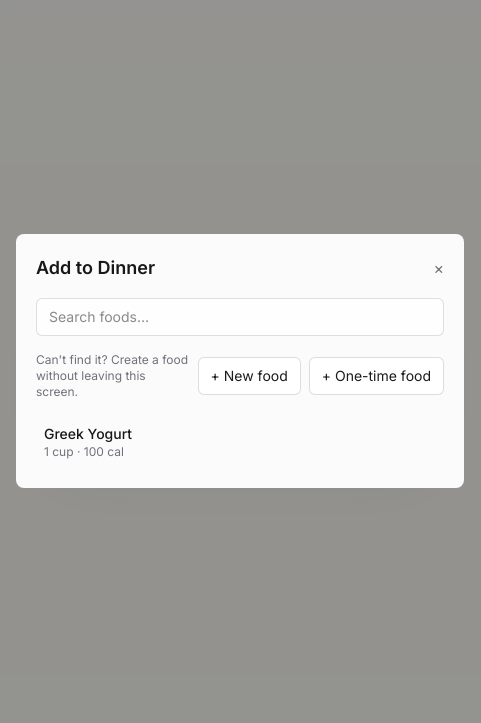
AddMealItemDialog › validates one-time food servings and returns to search on cancel
Type "Cake" into the search field with placeholder "Search foods…". click: point(240, 317)
box: left=36, top=298, right=444, bottom=336
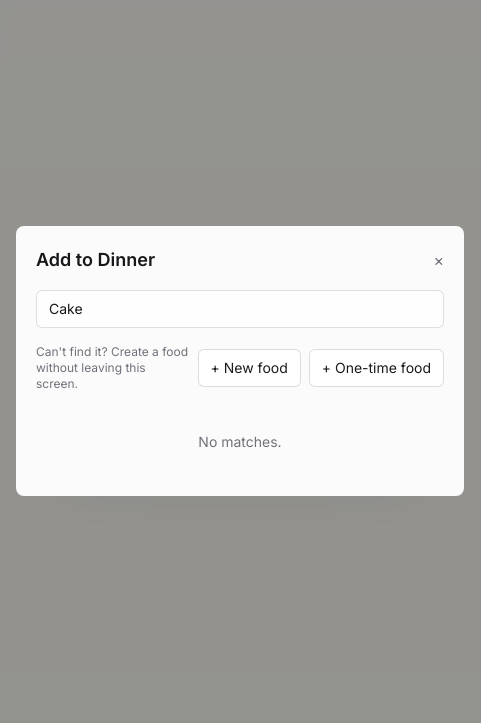
Click the button "+ One-time food". click: point(376, 368)
box: left=309, top=349, right=444, bottom=387
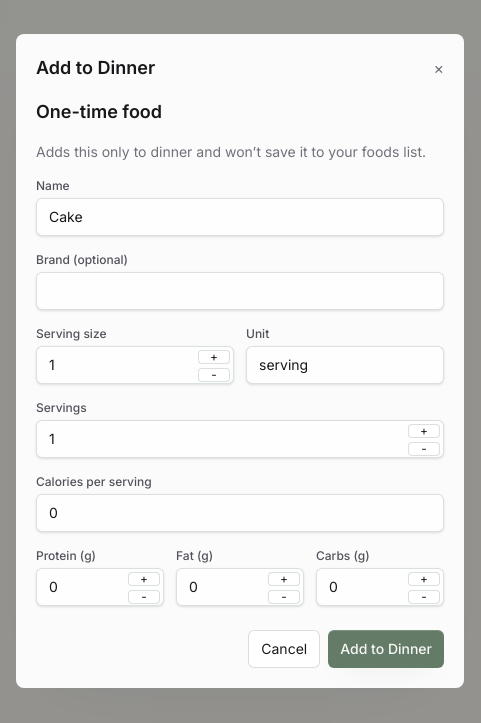
Expected: the heading "One-time food" is shown, left=36, top=101, right=162, bottom=122
Result: the text "Adds this only to dinner and won’t save it to your foods list." is shown at left=36, top=142, right=444, bottom=162
Result: the field labelled "Name" holds "Cake" at left=36, top=198, right=444, bottom=236
Clear the field labelled "Servings". click: point(240, 439)
box: left=36, top=420, right=444, bottom=458
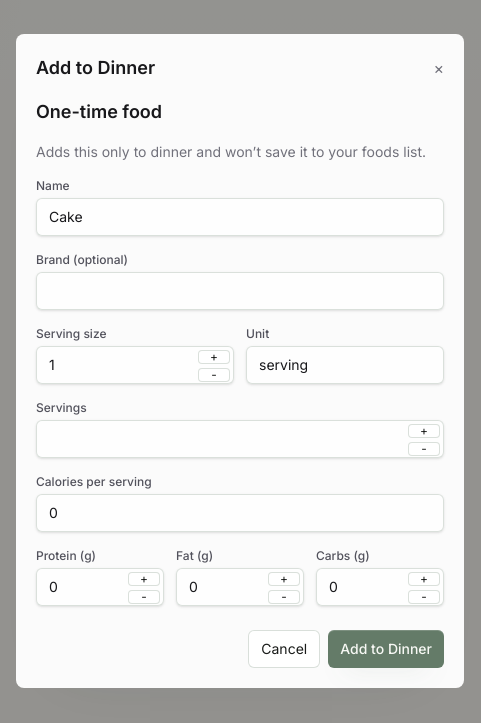
Submit the form named "Add to Dinner"
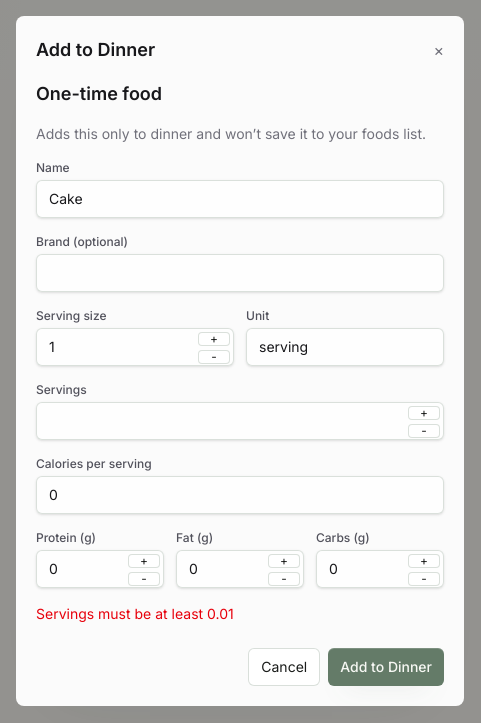
Result: the text "Servings must be at least 0.01" is shown at left=36, top=605, right=234, bottom=622
Click the button "Cancel". click: point(284, 667)
box: left=248, top=648, right=320, bottom=686
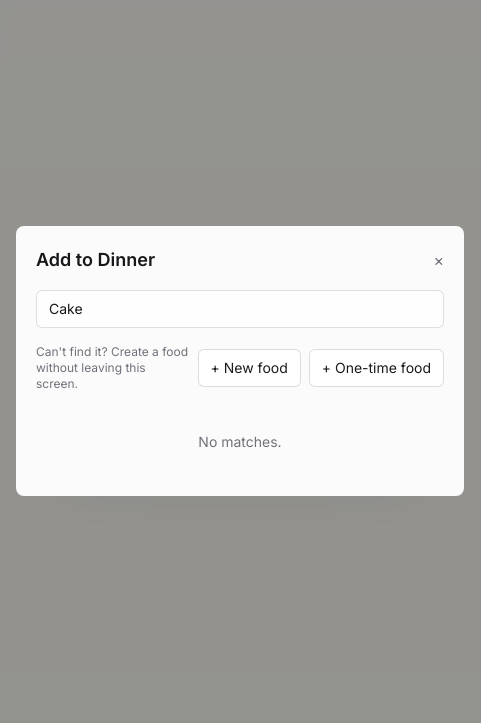
Result: the search field with placeholder "Search foods…" is shown at left=36, top=290, right=444, bottom=328
